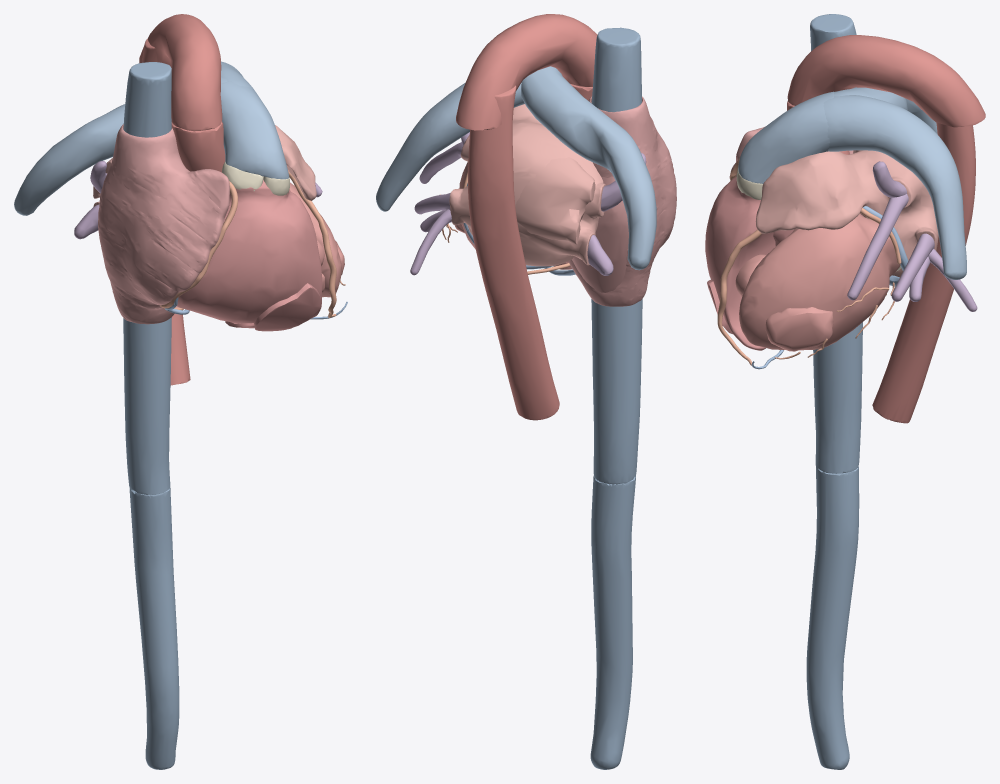
Rendered from heart.v2.glb.
3 renders of one model, left to right at view 1: azimuth 30°, elevation 25°; view 2: azimuth 150°, elevation 25°; view 3: azimuth 270°, elevation 25°, orthographic. The views are drawn at different scales.
Visible parts, largest first — view 1: right_atrium, inferior_vena_cava, right_ventricle, aortic_arch, pulmonary_arteries, pulmonary_trunk, aorta, superior_vena_cava, coronary_arteries, left_atrium, left_ventricle, pulmonary_valve (+1 smaller); view 2: inferior_vena_cava, aorta, pulmonary_arteries, left_atrium, aortic_arch, right_atrium, superior_vena_cava, pulmonary_veins; view 3: inferior_vena_cava, left_ventricle, left_atrium, pulmonary_arteries, aortic_arch, aorta, right_ventricle, pulmonary_trunk, pulmonary_veins, coronary_arteries, superior_vena_cava, cardiac_veins.
Part boxes in pixels (bbox=[...]): right_atrium: bbox=[98, 124, 229, 324]; inferior_vena_cava: bbox=[123, 317, 179, 769]; right_ventricle: bbox=[177, 179, 322, 331]; aortic_arch: bbox=[139, 14, 222, 131]; pulmonary_arteries: bbox=[14, 61, 254, 215]; pulmonary_trunk: bbox=[220, 81, 289, 179]; aorta: bbox=[142, 38, 225, 385]; superior_vena_cava: bbox=[123, 62, 171, 137]; coronary_arteries: bbox=[160, 170, 345, 317]; left_atrium: bbox=[93, 125, 316, 206]; left_ventricle: bbox=[289, 182, 344, 297]; pulmonary_valve: bbox=[222, 161, 289, 195]; inferior_vena_cava: bbox=[590, 299, 642, 769]; aorta: bbox=[468, 84, 592, 420]; pulmonary_arteries: bbox=[376, 66, 656, 270]; left_atrium: bbox=[449, 104, 605, 266]; aortic_arch: bbox=[456, 14, 597, 130]; right_atrium: bbox=[568, 96, 676, 306]; superior_vena_cava: bbox=[591, 27, 641, 112]; pulmonary_veins: bbox=[410, 132, 646, 275]; inferior_vena_cava: bbox=[806, 322, 862, 769]; left_ventricle: bbox=[735, 213, 900, 351]; left_atrium: bbox=[755, 150, 938, 277]; pulmonary_arteries: bbox=[823, 87, 966, 279]; aortic_arch: bbox=[787, 35, 985, 127]; aorta: bbox=[787, 101, 975, 423]; right_ventricle: bbox=[705, 177, 793, 350]; pulmonary_trunk: bbox=[738, 91, 834, 183]; pulmonary_veins: bbox=[847, 161, 977, 311]; coronary_arteries: bbox=[717, 158, 901, 365]; superior_vena_cava: bbox=[810, 14, 856, 87]; cardiac_veins: bbox=[751, 206, 909, 369].
Size of the model in its own units: 0.1408 by 0.3662 by 0.1236.
